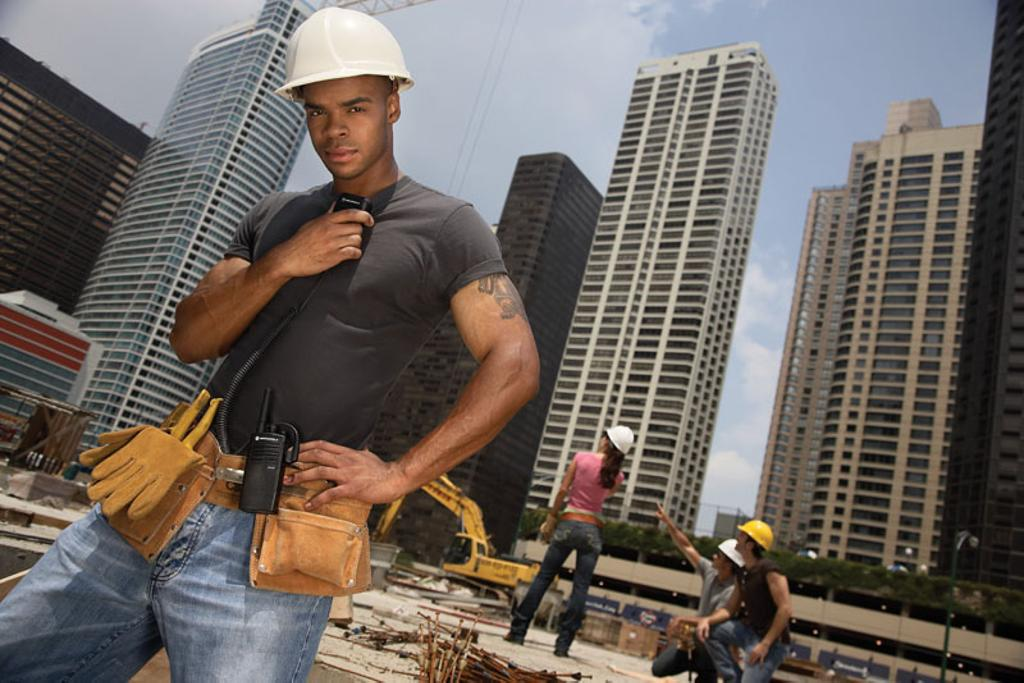face: (304, 56, 382, 170)
